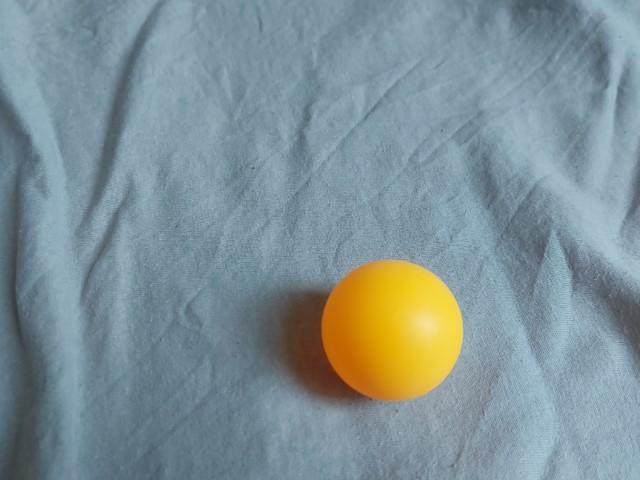oball: (317, 255, 467, 405)
